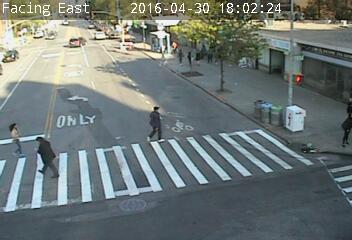neg: (293, 39, 323, 78), (262, 156, 290, 194), (140, 185, 168, 222), (200, 152, 227, 188), (123, 23, 150, 58), (30, 48, 56, 82), (213, 95, 235, 124), (228, 8, 250, 37), (262, 112, 283, 141), (49, 47, 68, 72), (94, 37, 111, 59), (76, 29, 89, 46), (180, 7, 191, 22), (163, 2, 173, 16), (252, 61, 261, 74)
pos: (23, 132, 62, 183), (138, 101, 173, 147), (330, 109, 351, 156), (175, 44, 192, 68), (204, 44, 219, 63), (182, 50, 196, 68), (198, 43, 210, 59), (170, 37, 180, 50), (159, 44, 167, 55)
